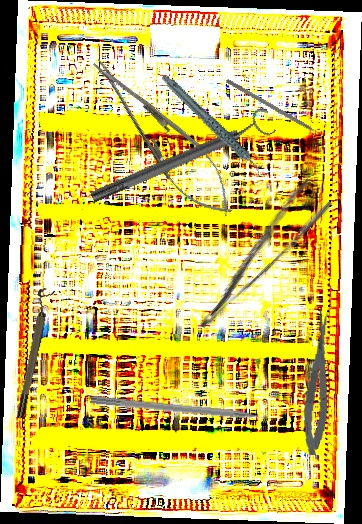Chopper: (222, 78, 329, 146)
Dressing Forceps: (177, 177, 336, 332)
Fixation Ring: (85, 105, 278, 211), (9, 286, 56, 420)
Handpiece: (160, 59, 263, 193)
Micro Scissor: (298, 308, 340, 457)
Needle Holder: (77, 44, 249, 230)
Pusher: (89, 394, 285, 427)
